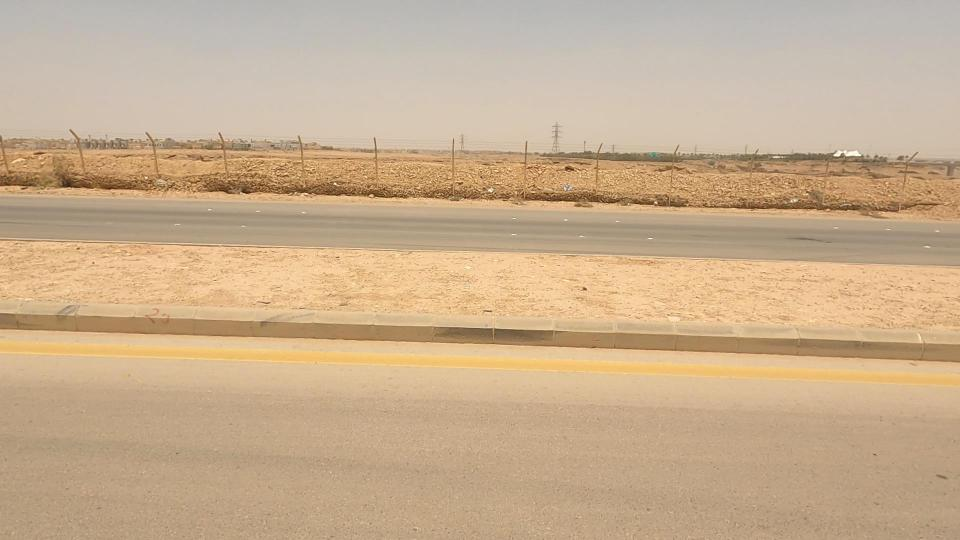CLUTTER_SIDEWALK: (0, 187, 732, 383), (412, 211, 960, 378)
GARBAGE: (546, 165, 588, 208), (138, 162, 179, 206), (471, 174, 505, 207)
